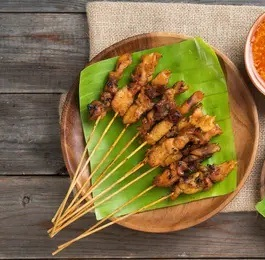sate: (46, 50, 238, 256)
